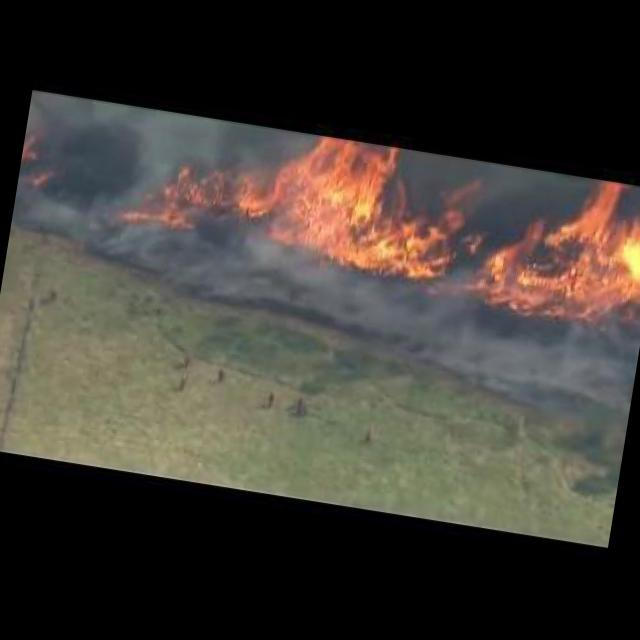fire: (121, 109, 476, 274), (486, 173, 640, 330)
